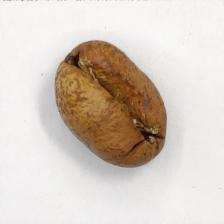NG: (54, 56, 121, 125), (106, 89, 162, 155)
